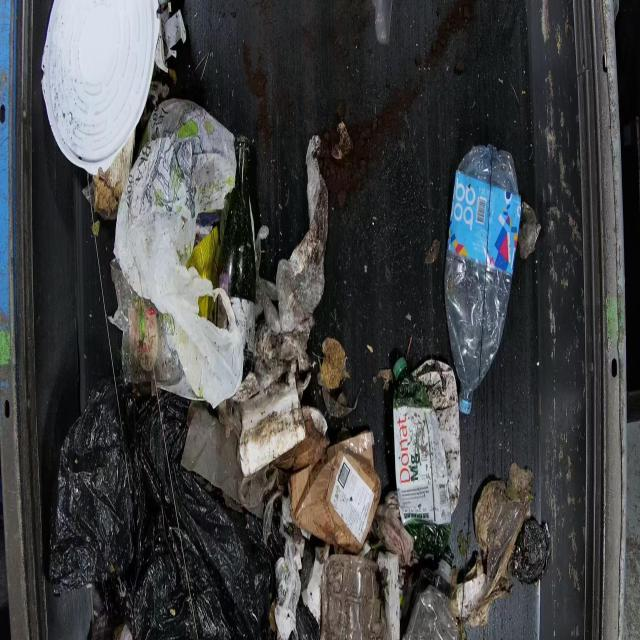cups: (442, 143, 522, 415), (39, 0, 161, 175)
plastic-waste: (108, 97, 249, 407)
trashbin: (2, 0, 633, 638)
